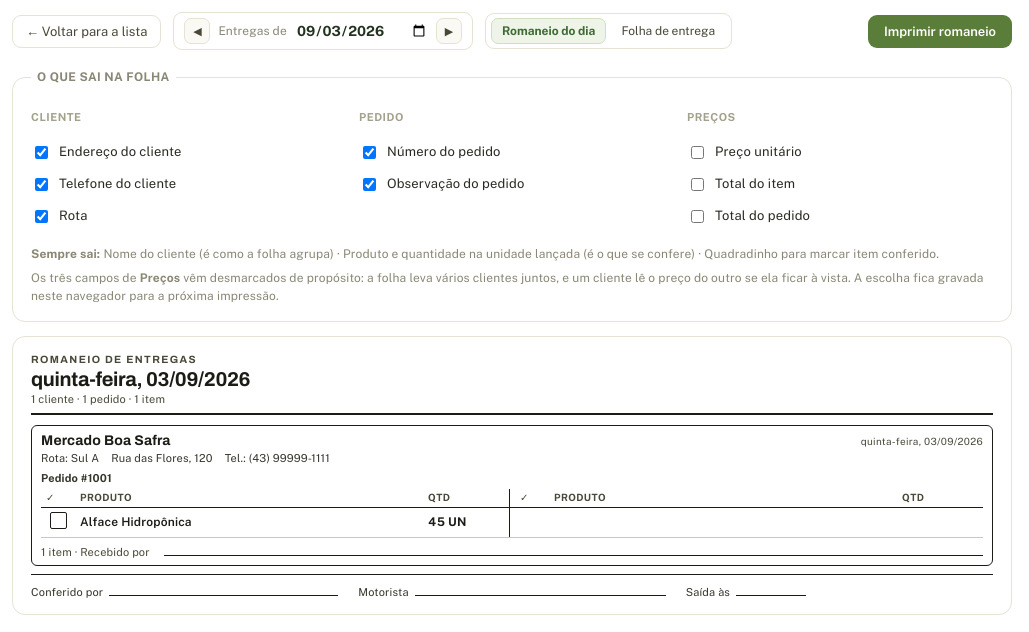
Test: RomaneioEntregas — a seleção por dia › trocar de dia refaz a busca com a nova data — um dia por requisição
Expected: the text "Mercado Boa Safra" is shown, [41,432,171,450]
Step 1. Type "2026-08-24" into the date field labelled "Entregas de" → (362, 31), box [295,22,428,40]
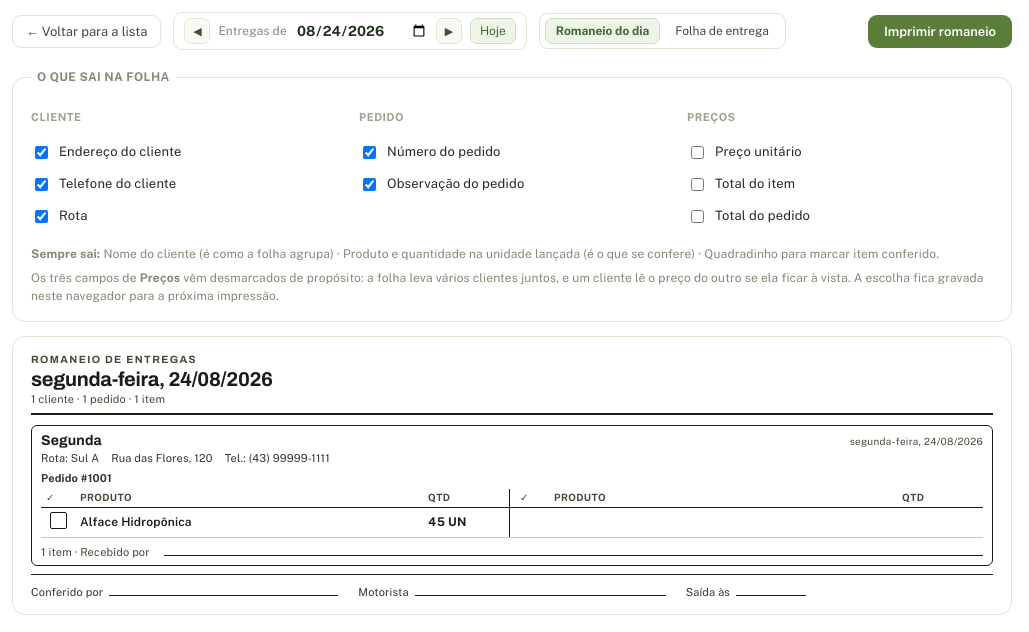
Result: the text "Segunda" is shown at [41,432,102,450]
